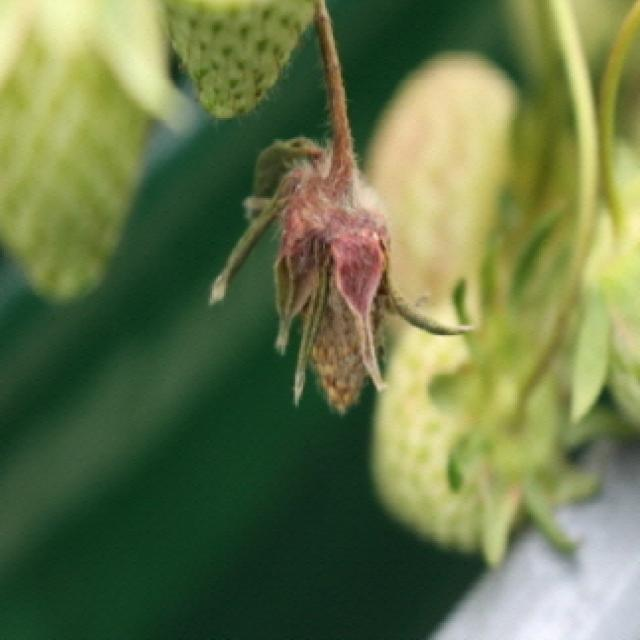Gray Mold: (207, 108, 476, 414)
